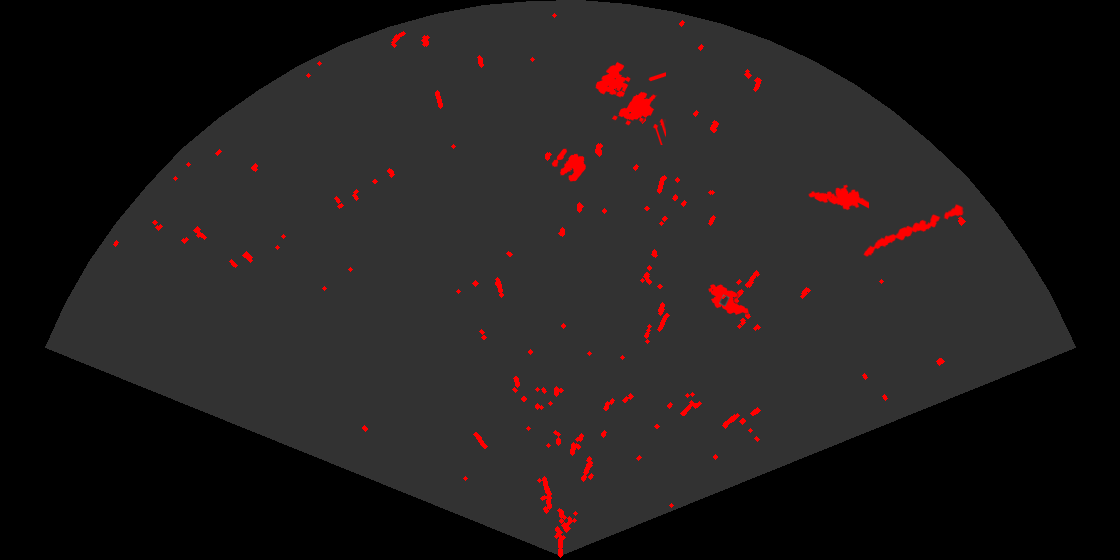AUV: (707, 283, 750, 316)
ball: (550, 147, 588, 183)
cage: (594, 60, 666, 145)
chain: (862, 202, 966, 259)
frogman: (807, 183, 869, 212)
